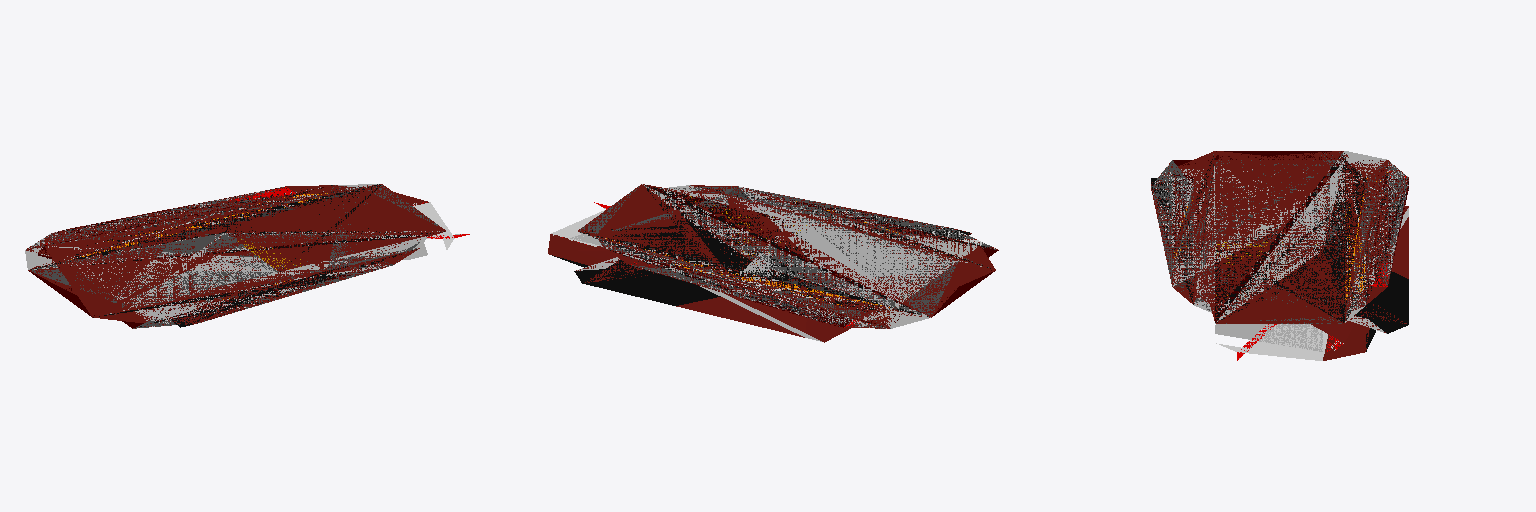
The picture shows the model from 3 angles: view 1: azimuth 30°, elevation 25°; view 2: azimuth 150°, elevation 25°; view 3: azimuth 270°, elevation 25°; orthographic projection.
Bounding box in the file's own units: 21 × 1 × 12.
1 materials, 1 textured.